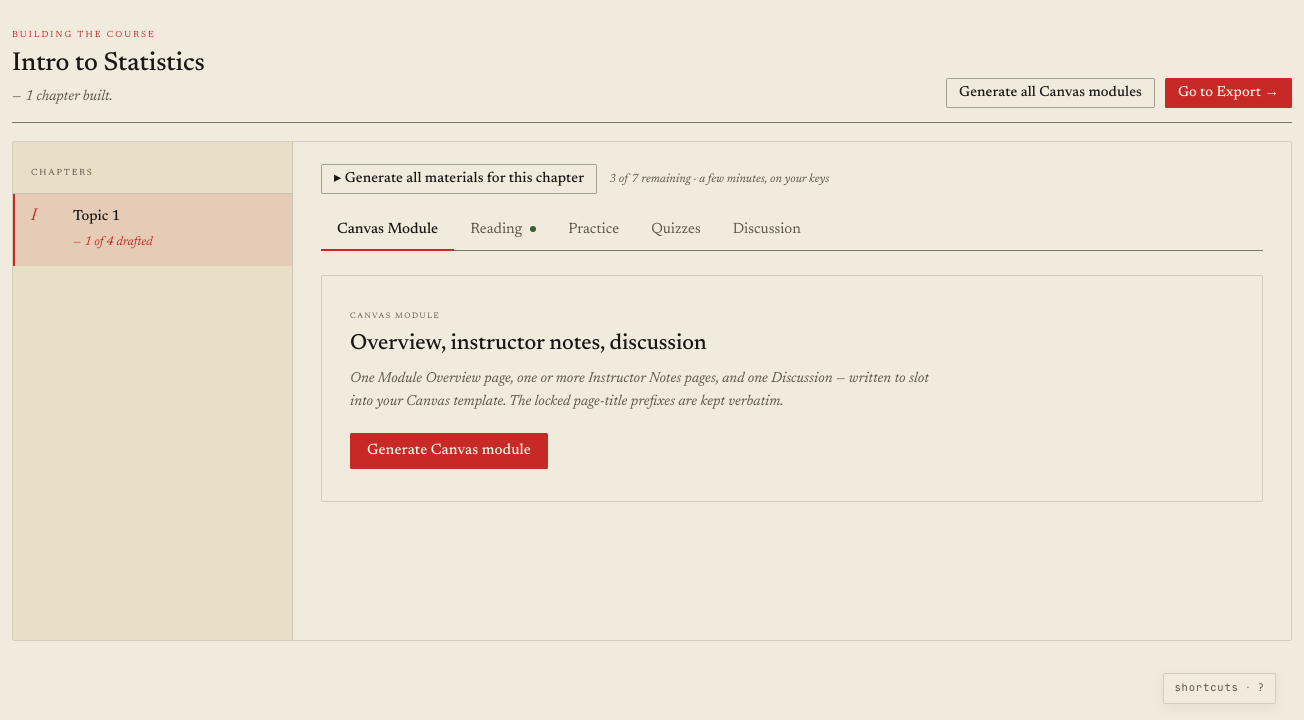
it: <BuildPage /> › generates a Canvas module from the Canvas Module tab and stores it on the chapter
Click the button "Generate Canvas module". click: (449, 451)
box: x1=350 y1=433 x2=548 y2=469
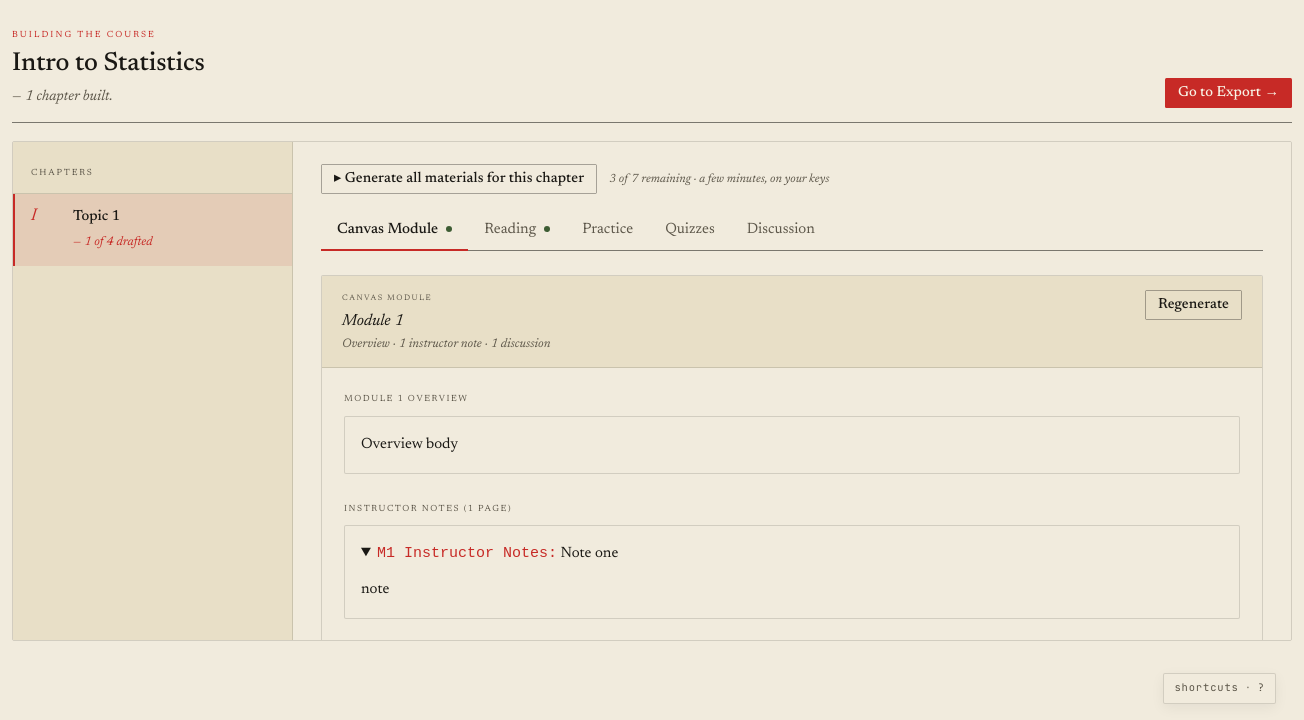
Expected: the text "Overview body" is shown, x1=361 y1=436 x2=458 y2=452
